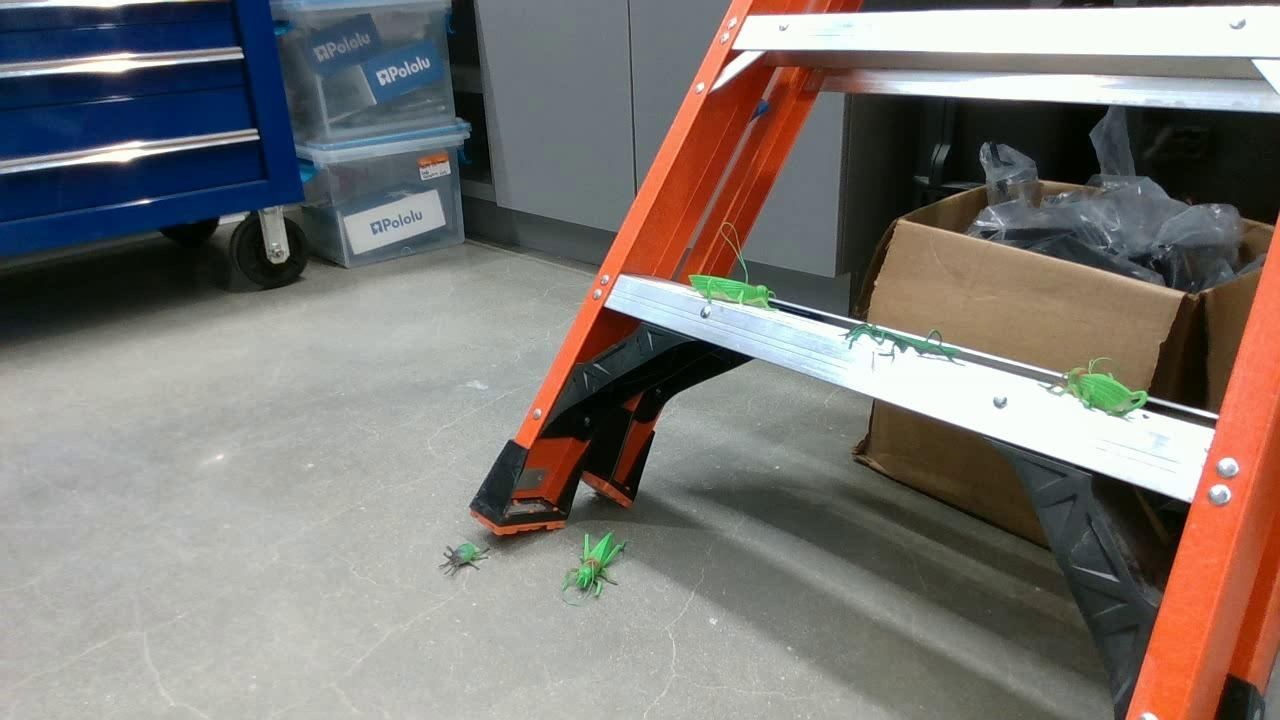grasshopper: (1042, 353, 1148, 434), (563, 529, 627, 608), (686, 267, 784, 318)
